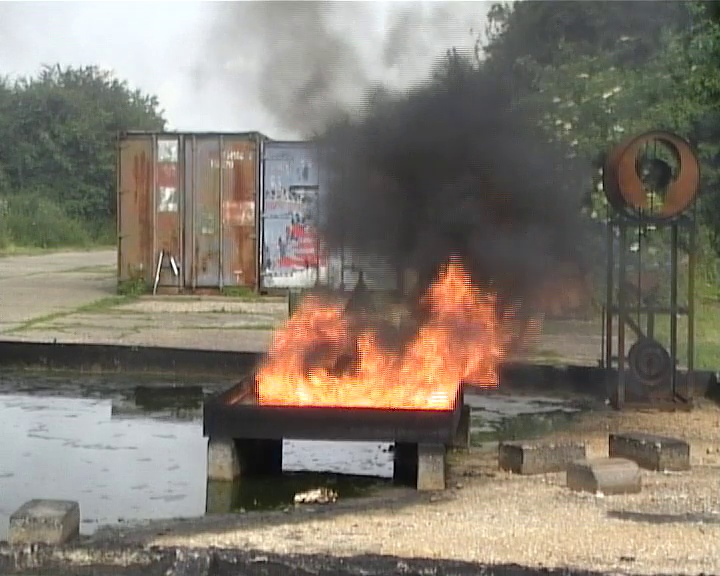fire: (253, 258, 496, 408)
